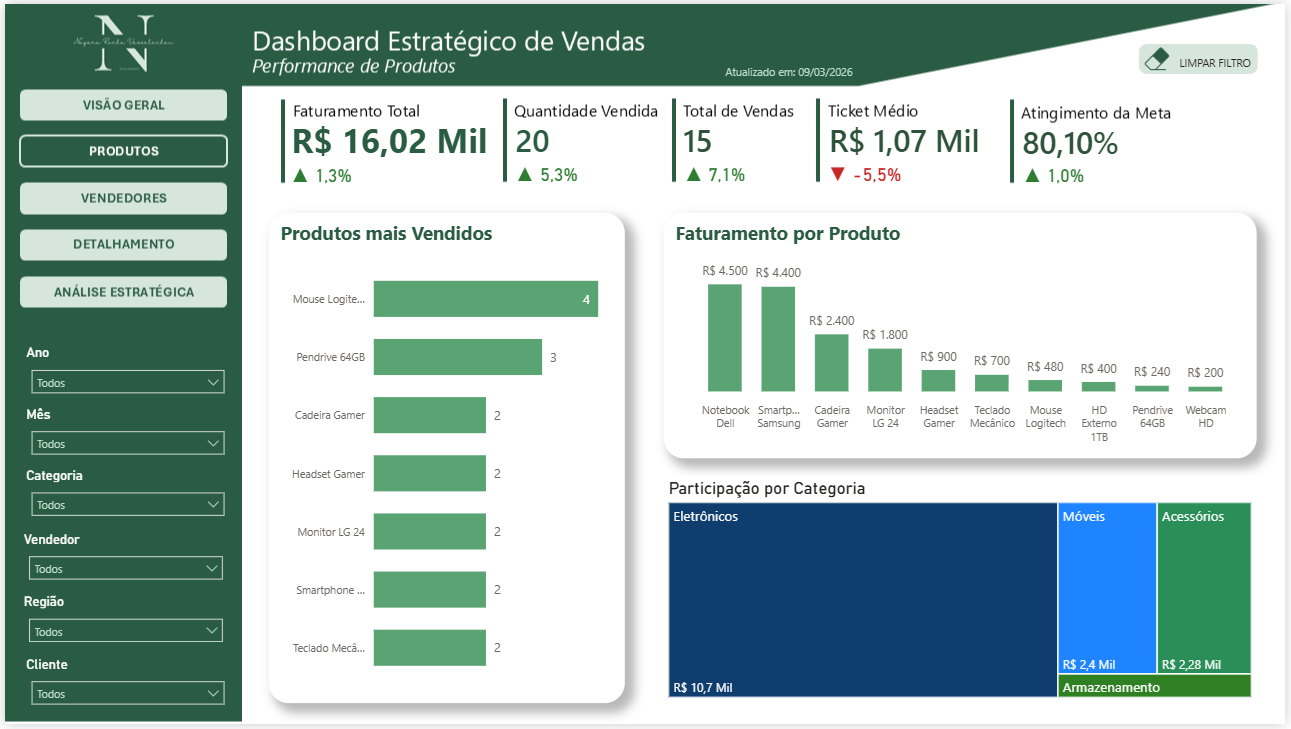

What the dashboard file says about the page in this screenshot:
{"tool":"powerbi","page":{"name":"Análise de Produtos","canvas":[1280,720],"ordinal":1},"visuals":[{"type":"clusteredBarChart","title":"Produtos mais Vendidos ","fields":{"Y":["_medidas.quantidade_vendida"],"Category":["dim_produtos.nome_produto"]},"box":[264.3,208.6,355.7,490],"z":0},{"type":"columnChart","title":"Faturamento por Produto","fields":{"Y":["_medidas.faturamento_total"],"Category":["dim_produtos.nome_produto"]},"box":[658.6,208.6,592.9,245.7],"z":1000},{"type":"actionButton","box":[15.7,87.1,205.7,28.6],"z":2000},{"type":"actionButton","box":[15.7,180,205.7,28.6],"z":3000},{"type":"actionButton","box":[15.7,225.7,205.7,28.6],"z":4000},{"type":"treemap","title":"Participação por Categoria","fields":{"Group":["dim_produtos.categoria"],"Values":["_medidas.faturamento_total"]},"box":[658.6,471.4,592.9,227.1],"z":5000},{"type":"actionButton","box":[15.7,85.7,205.7,28.6],"z":6000},{"type":"actionButton","box":[17.1,180,205.7,28.6],"z":7000},{"type":"actionButton","box":[17.1,225.7,205.7,28.6],"z":8000},{"type":"textbox","box":[692.9,52.9,182.9,38.6],"z":9000},{"type":"slicer","title":"Ano","fields":{"Values":["dim_datas.ano"]},"box":[15.7,341.4,212.9,54.3],"z":10000},{"type":"slicer","title":"Mês","fields":{"Values":["dim_datas.mes_abreviado"]},"box":[15.7,402.9,212.9,52.9],"z":11000},{"type":"slicer","title":"Categoria","fields":{"Values":["dim_produtos.categoria"]},"box":[15.7,464.3,212.9,54.3],"z":12000},{"type":"slicer","title":"Vendedor","fields":{"Values":["dim_vendedores.nome_vendedor"]},"box":[14.3,527.1,214.3,54.3],"z":13000},{"type":"slicer","title":"Região","fields":{"Values":["dim_vendedores.regiao"]},"box":[14.3,590,214.3,54.3],"z":14000},{"type":"slicer","title":"Cliente","fields":{"Values":["dim_clientes.nome_clientes"]},"box":[15.7,652.9,212.9,54.3],"z":15000},{"type":"actionButton","box":[15.7,272.9,205.7,28.6],"z":16000},{"type":"card","title":"Faturamento Total","fields":{"Values":["_medidas.faturamento_total"]},"box":[257.1,104.3,254.3,65.7],"z":17000},{"type":"card","title":"Qtd Vendida","fields":{"Values":["_medidas.quantidade_vendida"]},"box":[475.6,103.7,105,66.1],"z":18000},{"type":"card","title":"Total de Vendas","fields":{"Values":["_medidas.total_vendas"]},"box":[641.4,103.7,103.7,66.1],"z":19000},{"type":"card","title":"Ticket Médio","fields":{"Values":["_medidas.ticket_medio"]},"box":[776.2,103.7,246.2,66.1],"z":20000},{"type":"card","title":"Faturamento Total","fields":{"Values":["_medidas.tendência_faturamento"]},"box":[271.4,151.4,90,41.4],"z":21000},{"type":"card","title":"Faturamento Total","fields":{"Values":["_medidas.7_tendência_qtd_vendida"]},"box":[496.3,150.3,90.7,41.5],"z":22000},{"type":"card","title":"Faturamento Total","fields":{"Values":["_medidas.7_tendência_total_vendas"]},"box":[664.8,150.3,89.4,41.5],"z":23000},{"type":"card","title":"Faturamento Total","fields":{"Values":["_medidas.7_tendência_ticket_medio"]},"box":[815.1,150.3,89.4,41.5],"z":24000},{"type":"card","title":"Ticket Médio","fields":{"Values":["_medidas.1_atingimento_meta"]},"box":[990,106.3,151.6,64.8],"z":25000},{"type":"card","title":"Faturamento Total","fields":{"Values":["_medidas.3_2_tendencia_atingimento_meta"]},"box":[1004.3,151.6,89.4,41.5],"z":26000},{"type":"shape","box":[1133.6,40,119.1,30],"z":27000},{"type":"textbox","box":[1165.5,43.6,90,28.2],"z":28000},{"type":"image","box":[1130,40.9,42.7,27.3],"z":29000},{"type":"actionButton","box":[1130,40,125,28],"z":30000}]}

Visuals, with their boxes in screenshot pixels (x1, y1, x2, y2), scaled from the page's 1280x720 canvas onto the 1291x729 screenshot:
"Produtos mais Vendidos " clusteredBarChart: x1=267 y1=211 x2=625 y2=707
"Faturamento por Produto" columnChart: x1=664 y1=211 x2=1262 y2=460
actionButton: x1=16 y1=88 x2=223 y2=117
actionButton: x1=16 y1=182 x2=223 y2=211
actionButton: x1=16 y1=229 x2=223 y2=257
"Participação por Categoria" treemap: x1=664 y1=477 x2=1262 y2=707
actionButton: x1=16 y1=87 x2=223 y2=116
actionButton: x1=17 y1=182 x2=225 y2=211
actionButton: x1=17 y1=229 x2=225 y2=257
textbox: x1=699 y1=54 x2=883 y2=93
"Ano" slicer: x1=16 y1=346 x2=231 y2=401
"Mês" slicer: x1=16 y1=408 x2=231 y2=461
"Categoria" slicer: x1=16 y1=470 x2=231 y2=525
"Vendedor" slicer: x1=14 y1=534 x2=231 y2=589
"Região" slicer: x1=14 y1=597 x2=231 y2=652
"Cliente" slicer: x1=16 y1=661 x2=231 y2=716
actionButton: x1=16 y1=276 x2=223 y2=305
"Faturamento Total" card: x1=259 y1=106 x2=516 y2=172
"Qtd Vendida" card: x1=480 y1=105 x2=586 y2=172
"Total de Vendas" card: x1=647 y1=105 x2=752 y2=172
"Ticket Médio" card: x1=783 y1=105 x2=1031 y2=172
"Faturamento Total" card: x1=274 y1=153 x2=365 y2=195
"Faturamento Total" card: x1=501 y1=152 x2=592 y2=194
"Faturamento Total" card: x1=671 y1=152 x2=761 y2=194
"Faturamento Total" card: x1=822 y1=152 x2=912 y2=194
"Ticket Médio" card: x1=999 y1=108 x2=1151 y2=173
"Faturamento Total" card: x1=1013 y1=153 x2=1103 y2=196
shape: x1=1143 y1=40 x2=1263 y2=71
textbox: x1=1176 y1=44 x2=1266 y2=73
image: x1=1140 y1=41 x2=1183 y2=69
actionButton: x1=1140 y1=40 x2=1266 y2=69
